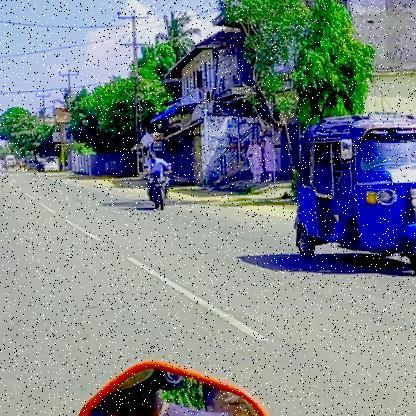motorcycle: (144, 170, 173, 211)
